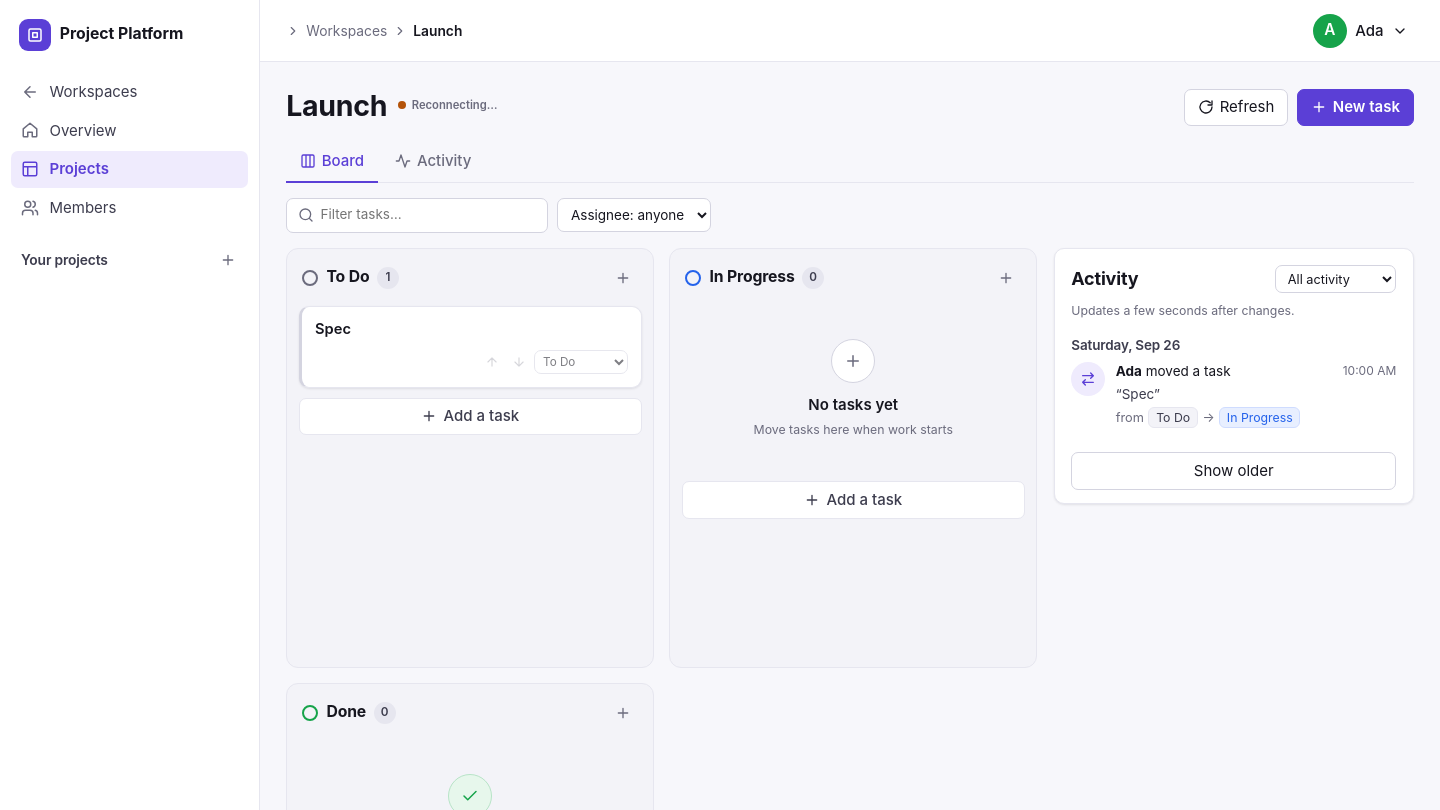
Test: activity panel › shows the project’s history in words, newest first, and pages to older entries
Expected: the list item with aria-label "Ada moved “Spec” from “To Do” to “In Progress”" is shown, [1071,362,1396,444]
Click the button "Show older" at point(1234, 471), box [1071,452,1396,490]
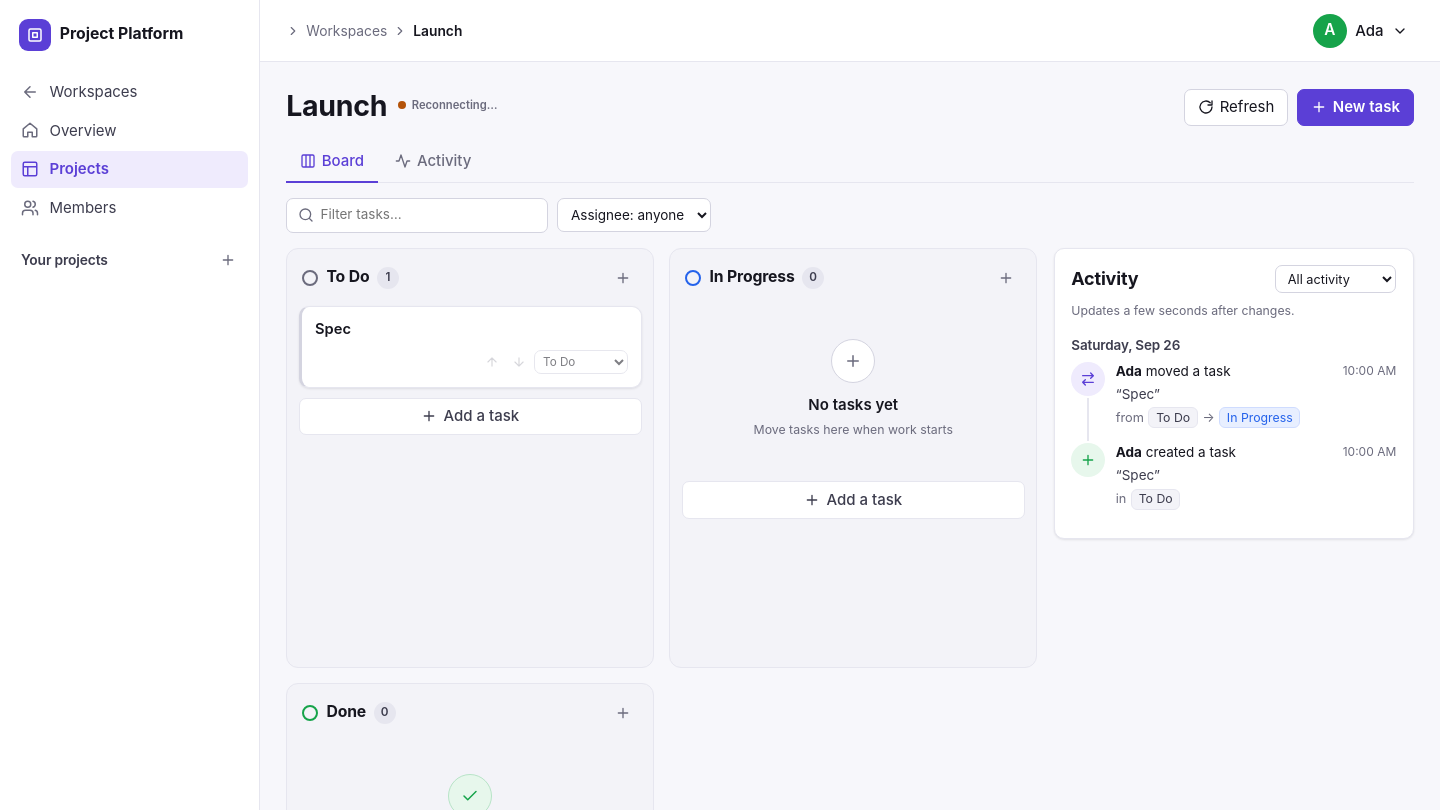
Expected: the list item with aria-label "Ada created “Spec” in “To Do”" is shown, [1071,444,1396,525]
Expected: the button "Show older" is gone
